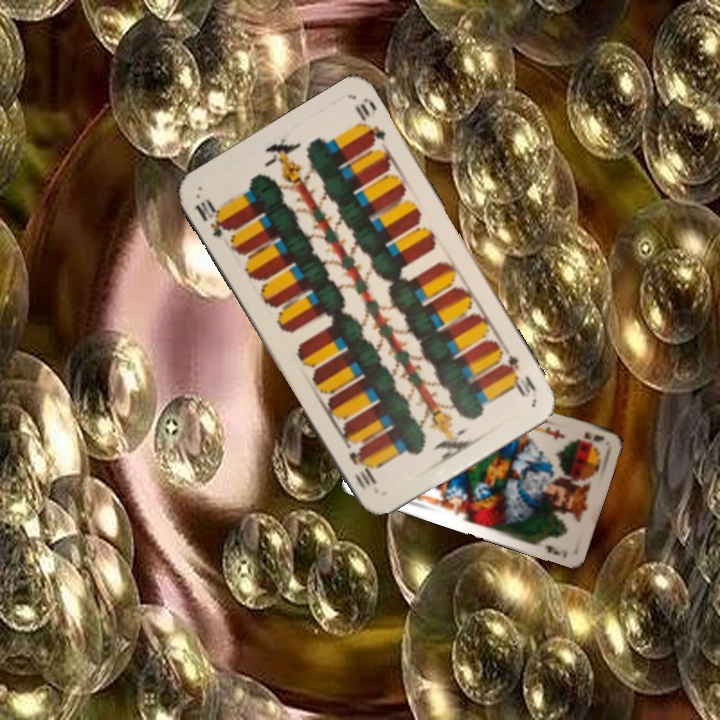E10: (495, 347, 540, 401), (191, 194, 233, 240)
SK: (580, 428, 607, 445)
